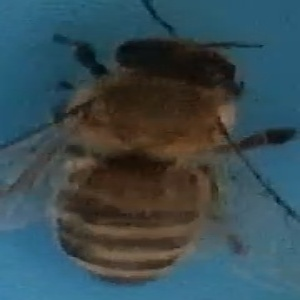bee: (23, 4, 297, 289)
